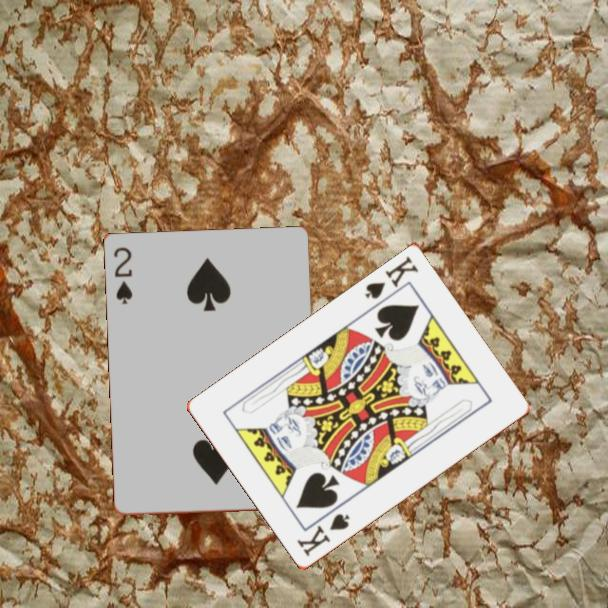s02: (111, 244, 136, 307)
s13: (293, 510, 353, 560), (361, 253, 421, 303)
